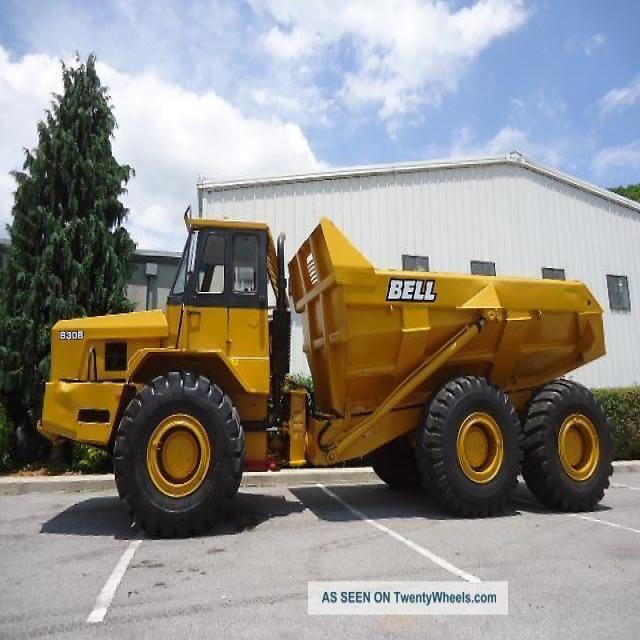dump_truck: (32, 206, 617, 530)
